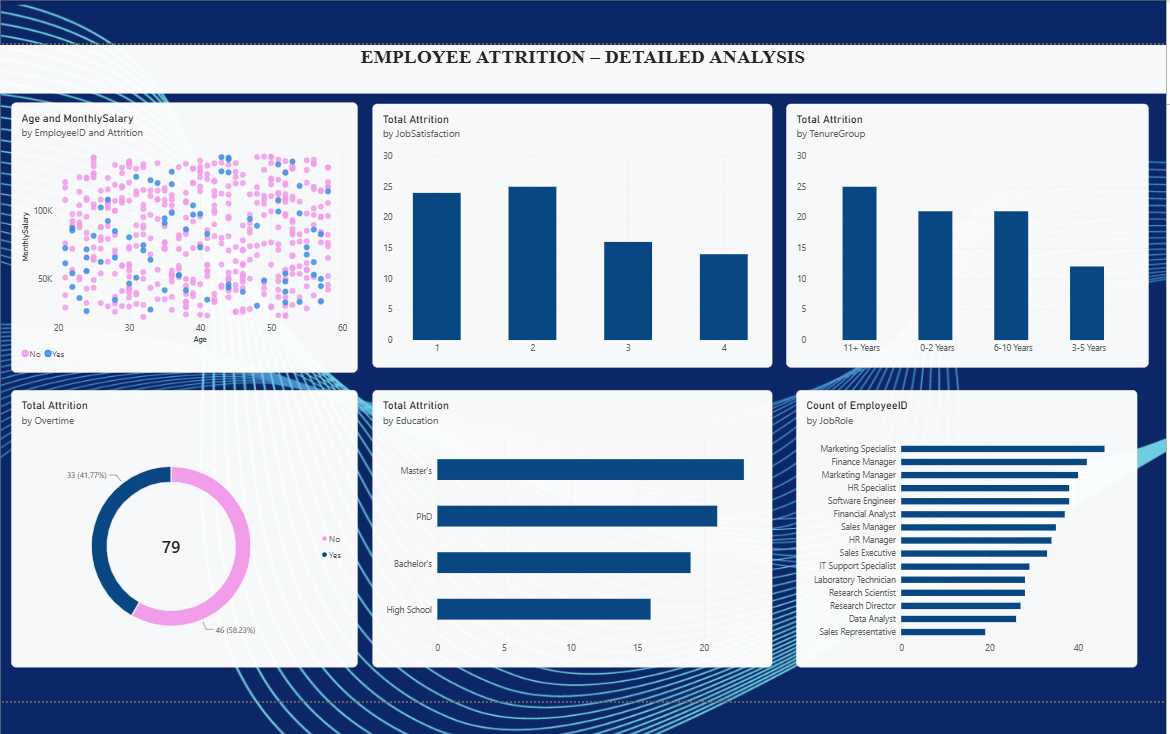

This screenshot's page, from the dashboard's own definition file:
{"tool":"powerbi","page":{"name":"Data Analysis ","canvas":[1920,1080],"ordinal":1},"visuals":[{"type":"textbox","box":[0,0,1920.4,80.3],"z":0},{"type":"scatterChart","fields":{"Category":["HR_Data.EmployeeID"],"Series":["HR_Data.Attrition"],"X":["Sum(HR_Data.Age)"],"Y":["Sum(HR_Data.MonthlySalary)"]},"box":[18.5,94.7,570.2,444.6],"z":1000},{"type":"clusteredColumnChart","fields":{"Category":["HR_Data.JobSatisfaction"],"Y":["HR_Data.Total Attrition"]},"box":[613.4,96.7,658.7,434.3],"z":2000},{"type":"barChart","fields":{"Category":["HR_Data.Education"],"Y":["HR_Data.Total Attrition"]},"box":[613.4,568.1,658.7,456.9],"z":3000},{"type":"clusteredColumnChart","fields":{"Category":["HR_Data.TenureGroup"],"Y":["HR_Data.Total Attrition"]},"box":[1294.7,96.7,596.9,434.3],"z":4000},{"type":"donutChart","fields":{"Category":["HR_Data.Overtime"],"Y":["HR_Data.Total Attrition"]},"box":[18.5,568.1,570.2,456.9],"z":5000},{"type":"barChart","fields":{"Category":["HR_Data.JobRole"],"Y":["CountNonNull(HR_Data.EmployeeID)"]},"box":[1311.2,568.1,561.9,456.9],"z":6000}]}

Visuals, with their boxes in screenshot pixels (x1, y1, x2, y2):
textbox: left=0, top=43, right=1154, bottom=91
scatterChart - HR_Data.EmployeeID x HR_Data.Attrition: left=11, top=100, right=354, bottom=367
clusteredColumnChart - HR_Data.JobSatisfaction x HR_Data.Total Attrition: left=369, top=101, right=764, bottom=362
barChart - HR_Data.Education x HR_Data.Total Attrition: left=369, top=384, right=764, bottom=659
clusteredColumnChart - HR_Data.TenureGroup x HR_Data.Total Attrition: left=778, top=101, right=1137, bottom=362
donutChart - HR_Data.Overtime x HR_Data.Total Attrition: left=11, top=384, right=354, bottom=659
barChart - HR_Data.JobRole x CountNonNull(HR_Data.EmployeeID): left=788, top=384, right=1126, bottom=659
